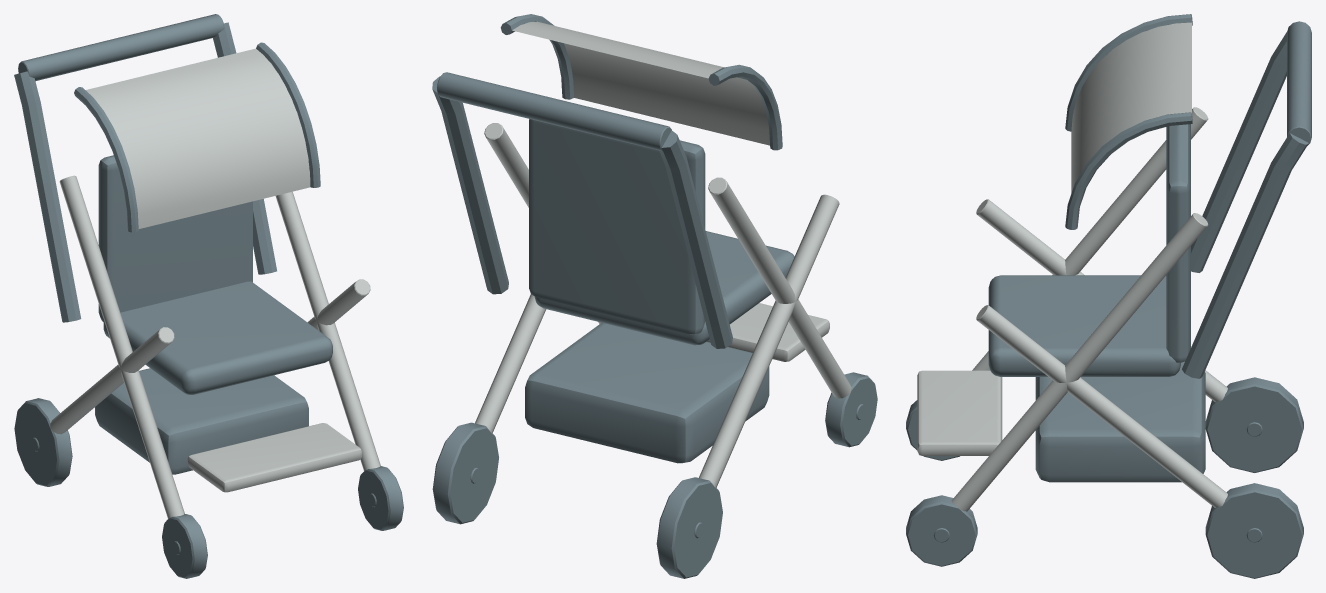
File: stroller.glb
3 views of the same model, side by side, from view 1: azimuth 30°, elevation 25°; view 2: azimuth 150°, elevation 25°; view 3: azimuth 270°, elevation 25° (orthographic). The views are drawn at different scales.
Visible parts, largest first — view 1: curved_sun_canopy, seat, backrest, underseat_basket, footrest, stroller_frame, handle_side, stroller_frame.001, push_handle, stroller_wheel_wheel, cross_frame, stroller_wheel_wheel.003 (+5 smaller); view 2: backrest, underseat_basket, curved_sun_canopy, push_handle, cross_frame, seat, stroller_wheel_wheel, stroller_wheel_wheel.002, handle_side, stroller_frame, handle_side.001, cross_frame.001 (+5 smaller); view 3: seat, underseat_basket, curved_sun_canopy, stroller_frame.001, footrest, stroller_wheel_wheel, stroller_wheel_wheel.002, cross_frame.001, handle_side.001, backrest, handle_side, stroller_wheel_wheel.003 (+6 smaller).
Boxes of the visible parts, bbox=[...] form: curved_sun_canopy: bbox=[85, 48, 310, 228]; seat: bbox=[103, 281, 332, 394]; backrest: bbox=[98, 155, 252, 321]; underseat_basket: bbox=[95, 368, 308, 474]; footrest: bbox=[187, 423, 361, 492]; stroller_frame: bbox=[59, 175, 184, 518]; handle_side: bbox=[14, 71, 81, 322]; stroller_frame.001: bbox=[275, 191, 380, 471]; push_handle: bbox=[18, 14, 224, 81]; stroller_wheel_wheel: bbox=[14, 398, 72, 486]; cross_frame: bbox=[50, 327, 174, 434]; stroller_wheel_wheel.003: bbox=[358, 466, 403, 530]; backrest: bbox=[529, 119, 705, 334]; underseat_basket: bbox=[525, 323, 769, 463]; curved_sun_canopy: bbox=[512, 21, 769, 145]; push_handle: bbox=[437, 72, 671, 151]; cross_frame: bbox=[699, 194, 839, 487]; seat: bbox=[534, 231, 794, 345]; stroller_wheel_wheel: bbox=[656, 477, 722, 578]; stroller_wheel_wheel.002: bbox=[432, 422, 498, 524]; handle_side: bbox=[659, 130, 732, 348]; stroller_frame: bbox=[708, 177, 851, 398]; handle_side.001: bbox=[432, 76, 508, 294]; cross_frame.001: bbox=[475, 294, 546, 433]; seat: bbox=[988, 275, 1180, 376]; underseat_basket: bbox=[1035, 361, 1205, 482]; curved_sun_canopy: bbox=[1071, 22, 1191, 192]; stroller_frame.001: bbox=[951, 213, 1208, 511]; footrest: bbox=[917, 370, 1002, 455]; stroller_wheel_wheel: bbox=[1205, 377, 1303, 472]; stroller_wheel_wheel.002: bbox=[1205, 483, 1303, 578]; cross_frame.001: bbox=[976, 305, 1227, 507]; handle_side.001: bbox=[1182, 133, 1308, 378]; backrest: bbox=[1166, 124, 1190, 362]; handle_side: bbox=[1191, 32, 1286, 272]; stroller_wheel_wheel.003: bbox=[906, 495, 977, 566].
Size of the model in its own units: 0.61 by 1.13 by 0.908.
